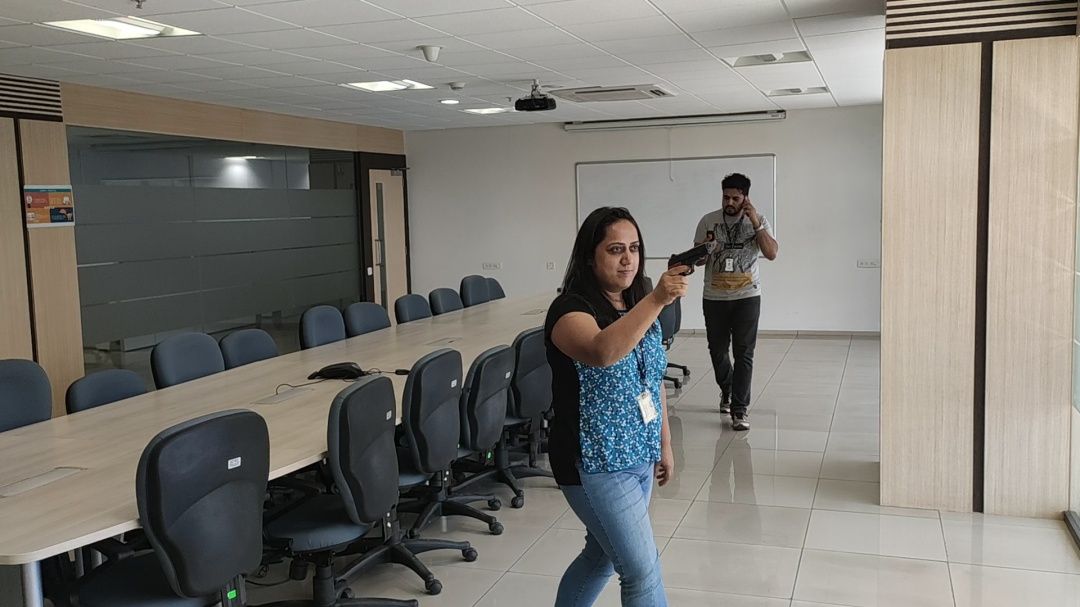gun: (667, 241, 712, 278)
